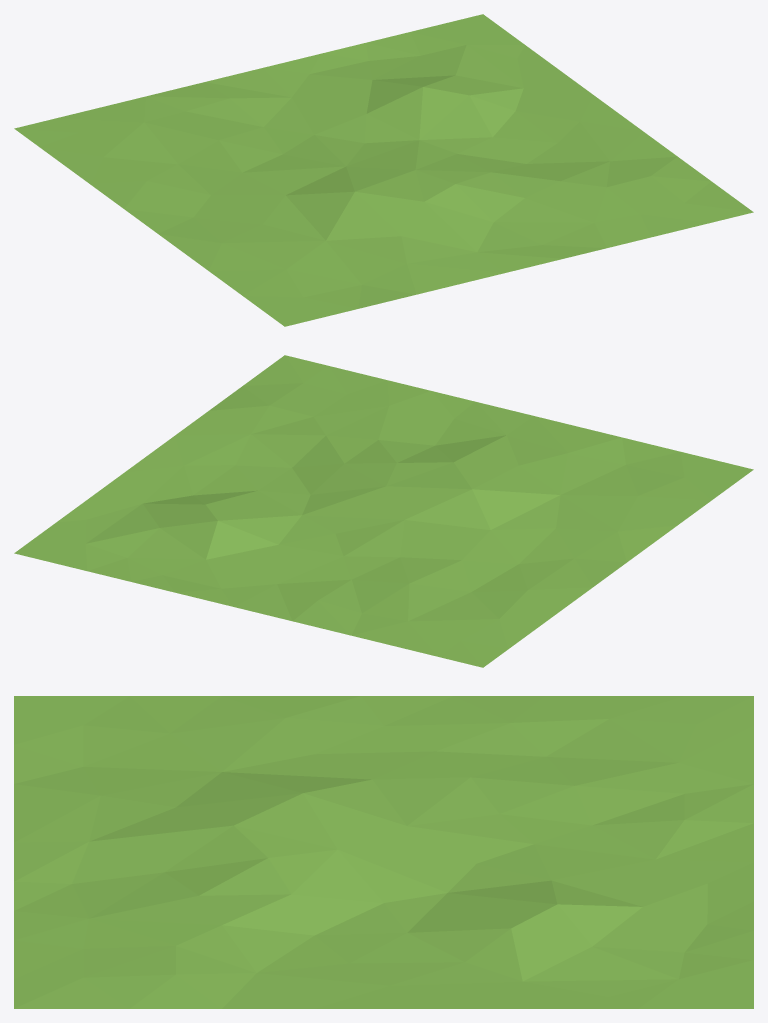
Rendered from MT_Terrain_S_a_08.fbx.
3 renders of one model, top to bottom at view 1: azimuth 30°, elevation 25°; view 2: azimuth 150°, elevation 25°; view 3: azimuth 270°, elevation 25°, orthographic. The views are drawn at different scales.
Visible parts, largest first — view 1: MT_Terrain_S_a_08; view 2: MT_Terrain_S_a_08; view 3: MT_Terrain_S_a_08.
Part boxes in pixels (left/top/right/bottom): MT_Terrain_S_a_08: left=14, top=14, right=753, bottom=326; MT_Terrain_S_a_08: left=14, top=355, right=753, bottom=667; MT_Terrain_S_a_08: left=14, top=696, right=753, bottom=1008.
Bounding box in the file's own units: 2500 × 93.32 × 2500.
